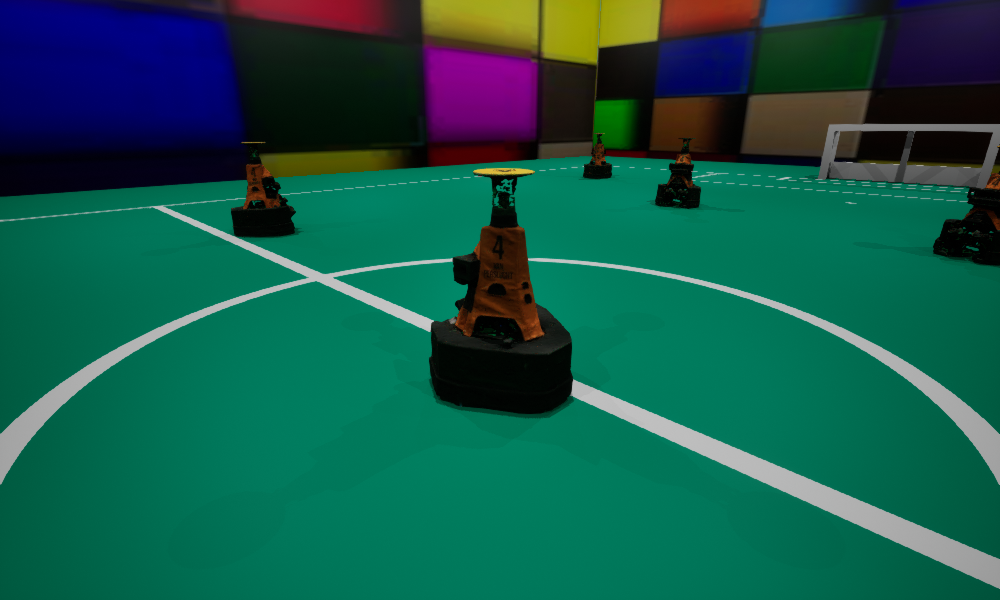0 orange robot TechUnited: (429, 168, 572, 413), (933, 146, 999, 264), (231, 142, 295, 236), (655, 137, 700, 207), (583, 133, 611, 178)
